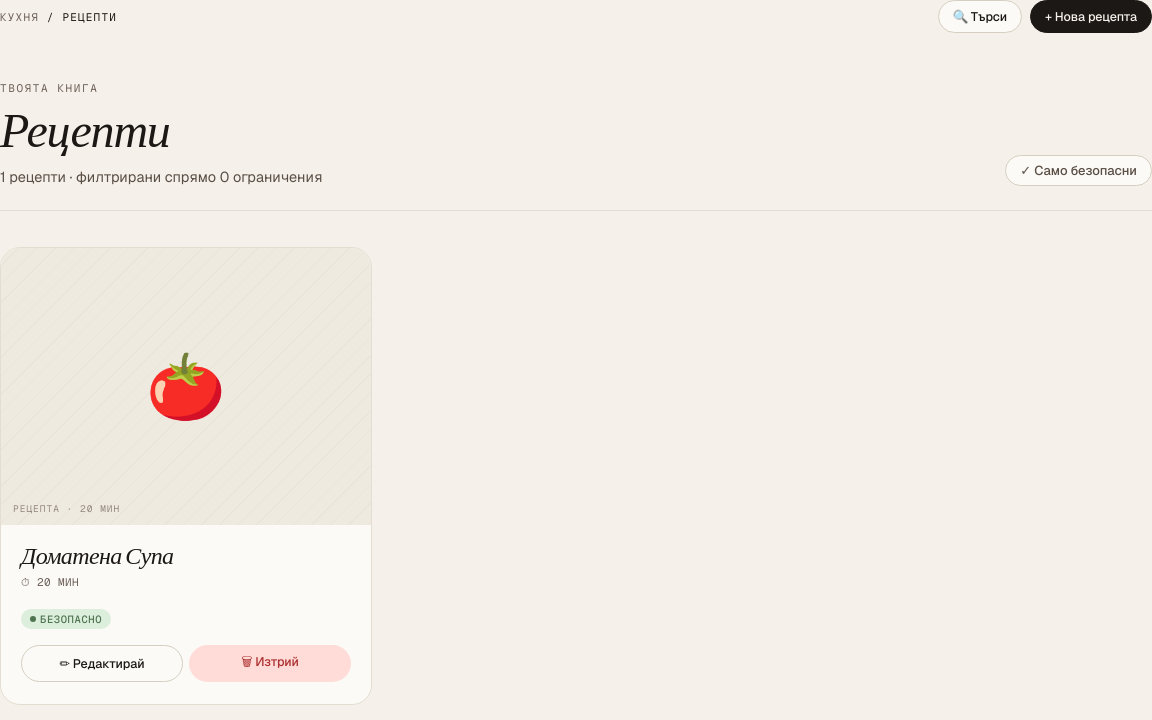
Test: RecipesScreen – delete card confirmation modal › shows Bulgarian confirmation text when lang is bg
Step 1. Click the button "🗑 Изтрий" → click(270, 663), box [189,645,351,682]
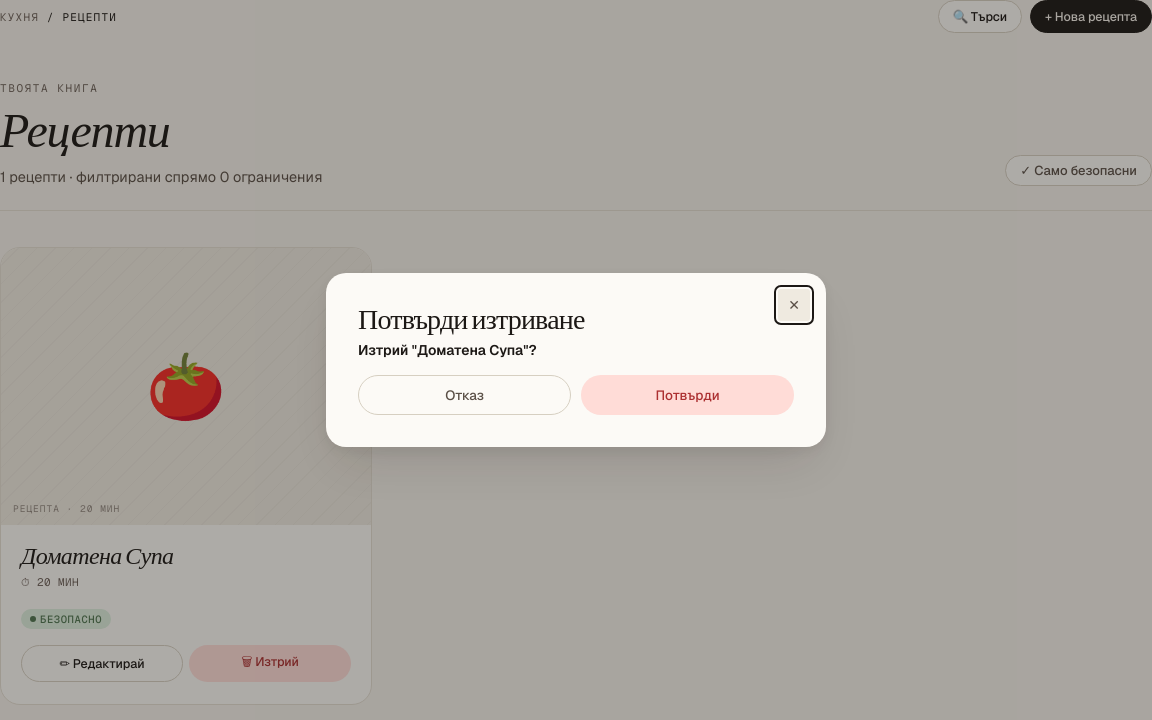
Expected: the text "Потвърди изтриване" is shown, [358,301,585,338]
Expected: the button "Потвърди" is shown, [581,375,794,415]
Expected: the button "Отказ" is shown, [358,375,571,415]
